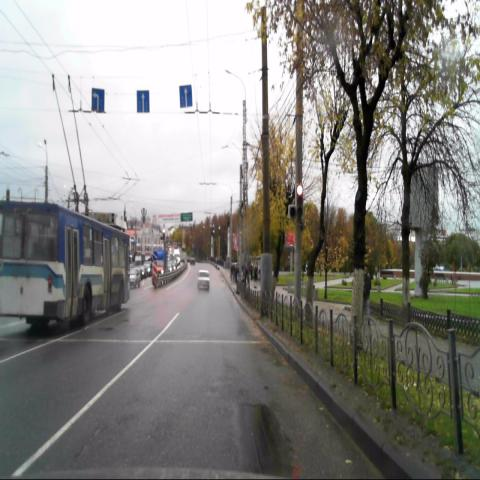5_15_2: (180, 85, 192, 107)
